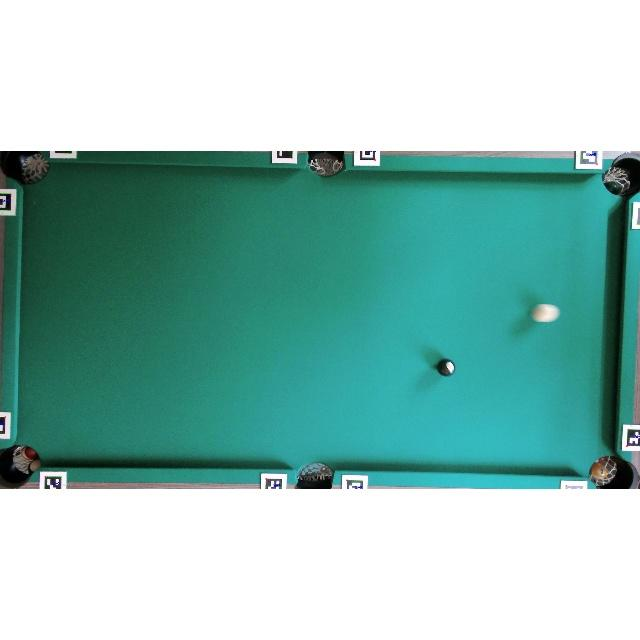cue ball: (530, 303, 560, 323)
other: (436, 358, 456, 377)
